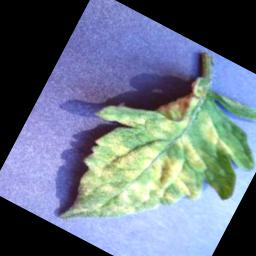Leaf_Mold: (44, 40, 256, 256)
